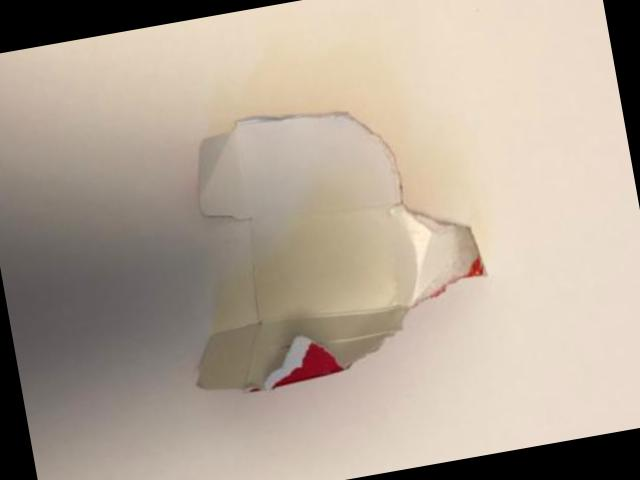cardboard paper: (200, 110, 485, 387)
